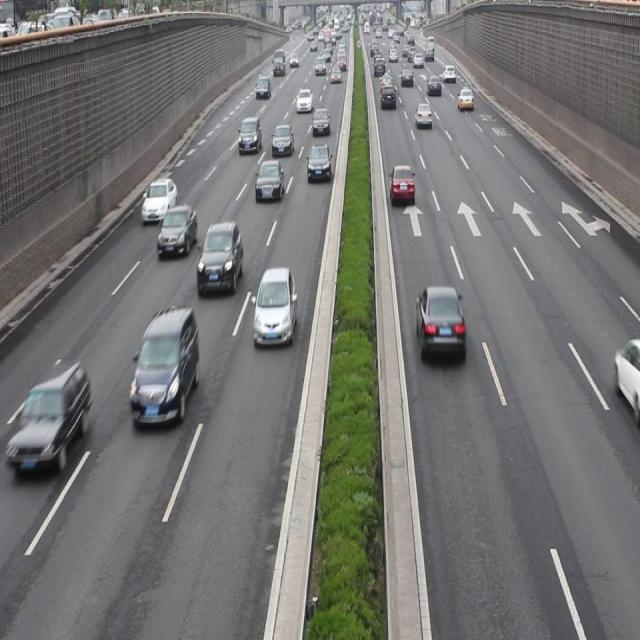car: (12, 359, 90, 471), (129, 304, 199, 424), (415, 283, 465, 363), (196, 219, 242, 295), (253, 266, 296, 344), (612, 336, 640, 412), (158, 205, 197, 258), (142, 174, 177, 223), (254, 158, 284, 202), (389, 162, 414, 207), (237, 114, 262, 155), (307, 142, 331, 184), (271, 123, 294, 158), (312, 106, 329, 138), (414, 101, 433, 129)
